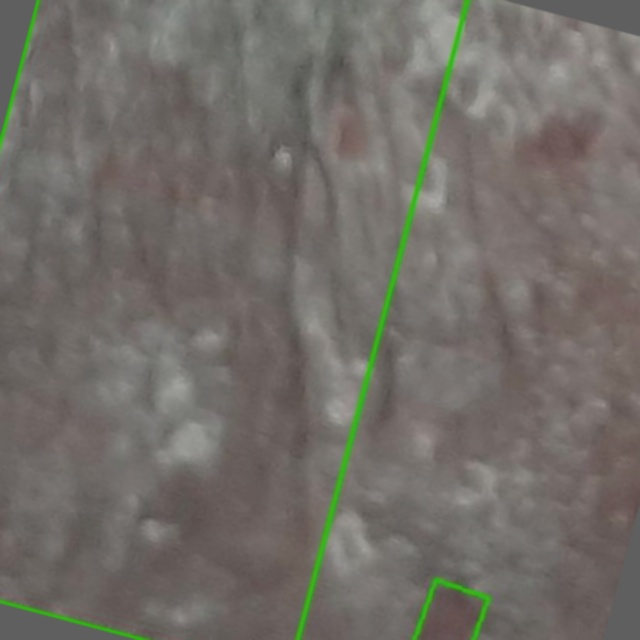Eczema: (0, 0, 467, 639)
